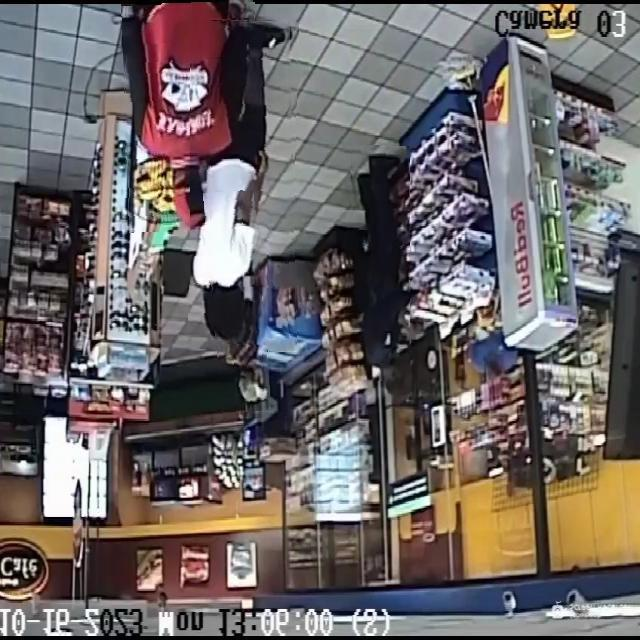Normal: (190, 19, 297, 351), (123, 0, 255, 232), (345, 145, 410, 398), (210, 190, 268, 412)
